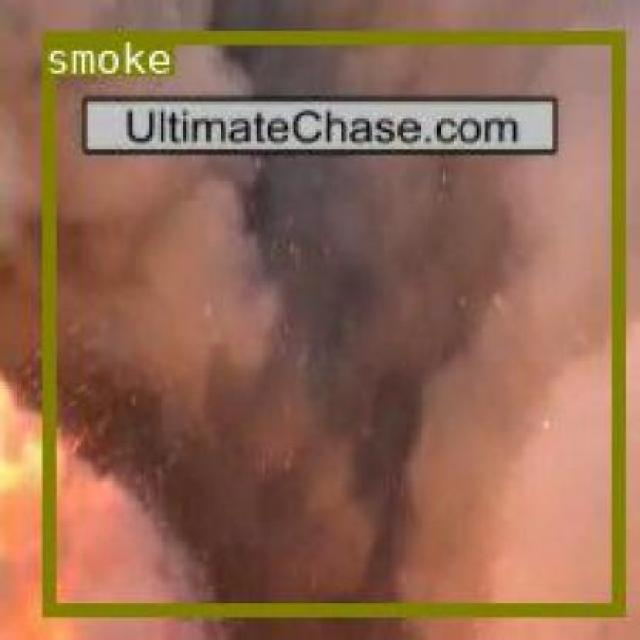Fire: (0, 392, 98, 640)
Smoke: (0, 0, 640, 640)
